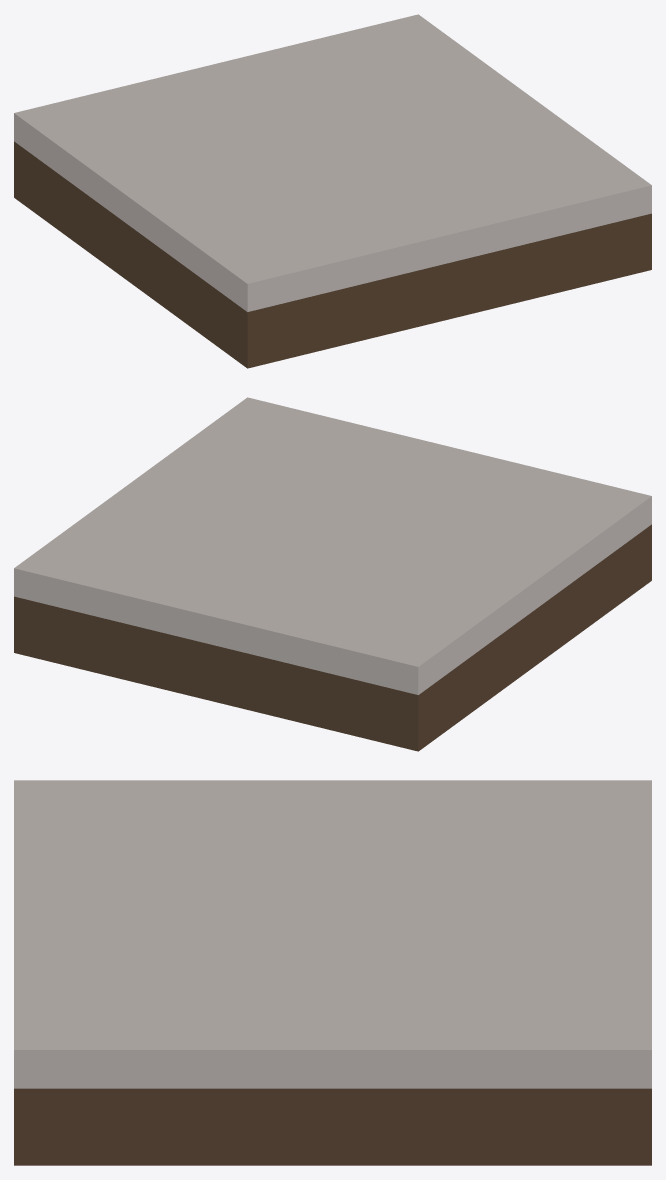
Rendered from tile-plain_concrete.glb.
3 renders of one model, top to bottom at view 1: azimuth 30°, elevation 25°; view 2: azimuth 150°, elevation 25°; view 3: azimuth 270°, elevation 25°, orthographic. The views are drawn at different scales.
Parts seen in each view (by area): view 1: tile-plain_concrete; view 2: tile-plain_concrete; view 3: tile-plain_concrete.
Part boxes in pixels (x1=…): tile-plain_concrete: x1=14, y1=14, x2=651, y2=368; tile-plain_concrete: x1=14, y1=397, x2=651, y2=751; tile-plain_concrete: x1=14, y1=780, x2=651, y2=1165.
Bounding box in the file's own units: 30 × 6 × 30.
1 material, 1 textured.
